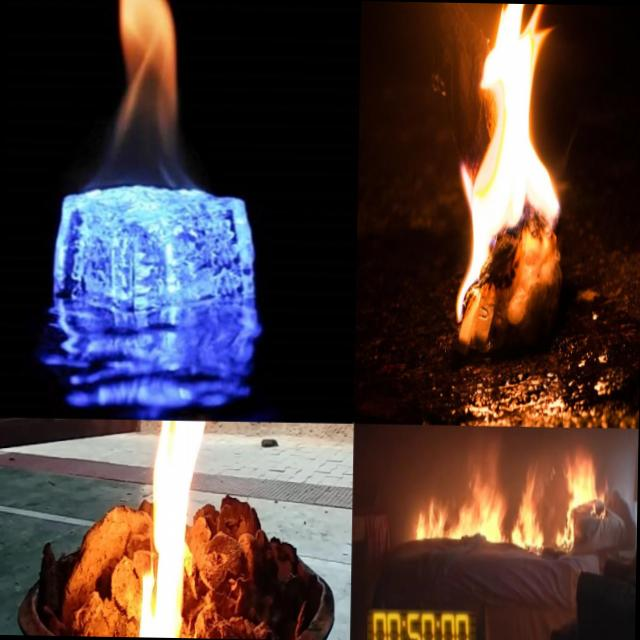fire: (452, 3, 570, 320), (83, 0, 206, 209), (120, 418, 230, 638), (413, 439, 606, 553)
